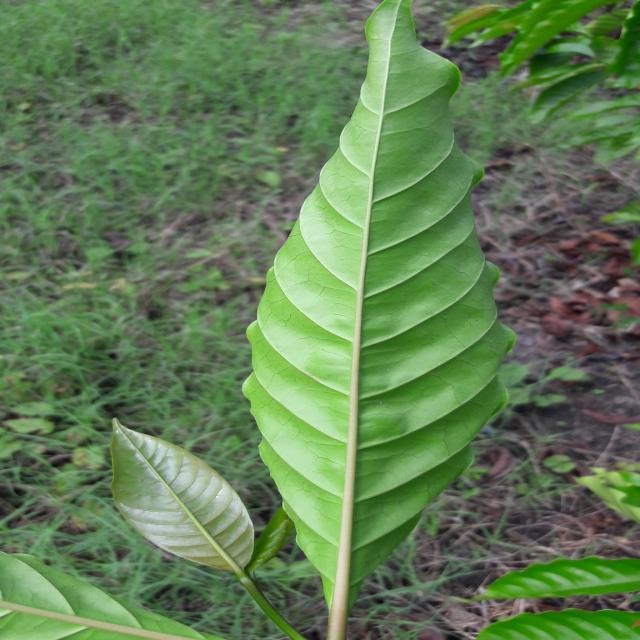Sanas: (240, 0, 516, 640)
